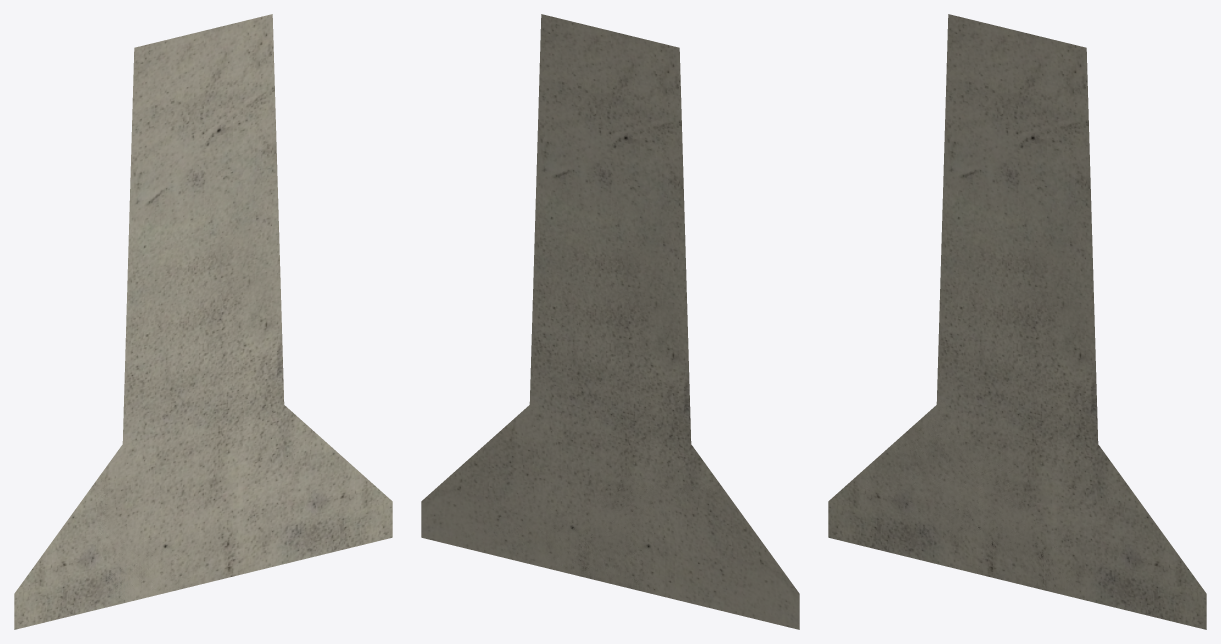
Rendered from GSDBarrier-KRailCap.fbx.
The picture shows the model from 3 angles, left to right: view 1: azimuth 30°, elevation 25°; view 2: azimuth 150°, elevation 25°; view 3: azimuth 330°, elevation 25°; orthographic projection.
Parts seen in each view (by area): view 1: KRailCap; view 2: KRailCap; view 3: KRailCap.
Part boxes in pixels (x1,y1,x2,y2): KRailCap: (14,14,392,629); KRailCap: (421,14,799,629); KRailCap: (828,14,1206,629).
Size of the model in its own units: 0.82 by 1.14 by 3.75e-07.
